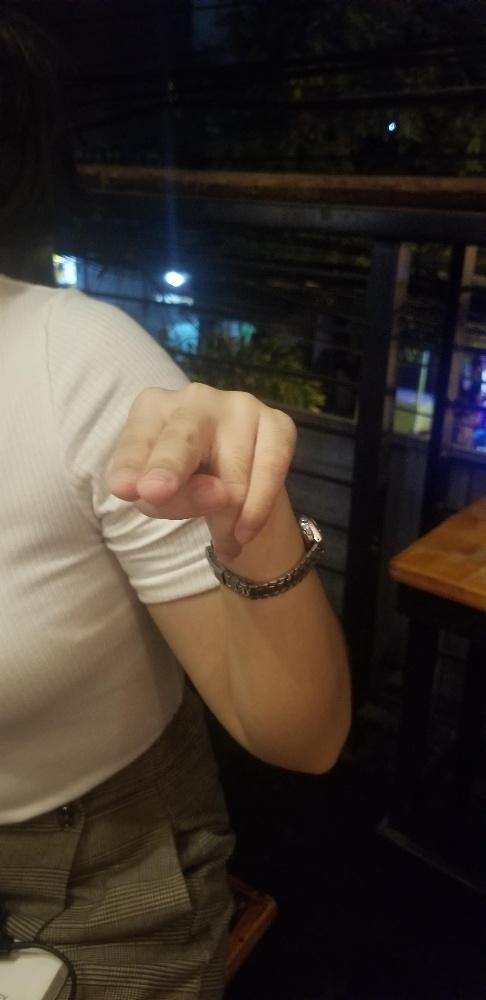n: (103, 377, 298, 558)
